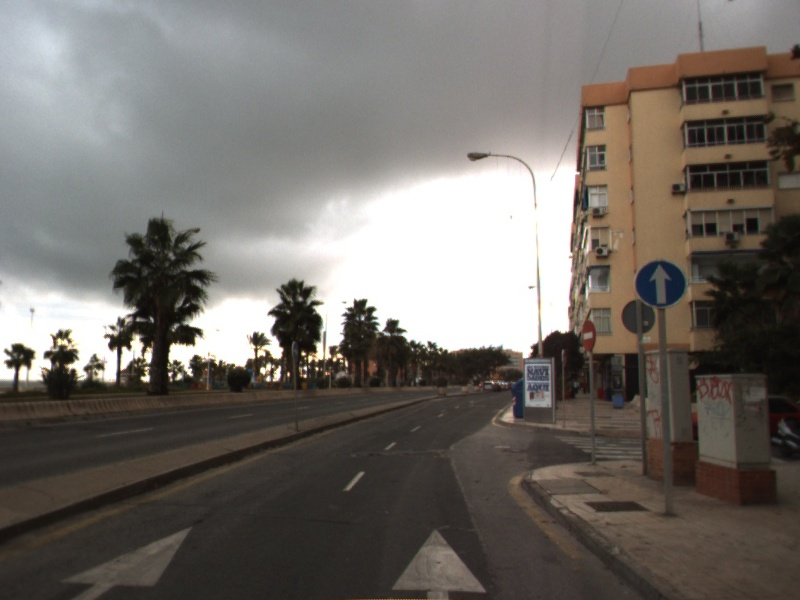STRAIGHT: (55, 524, 195, 600), (389, 526, 490, 600)
